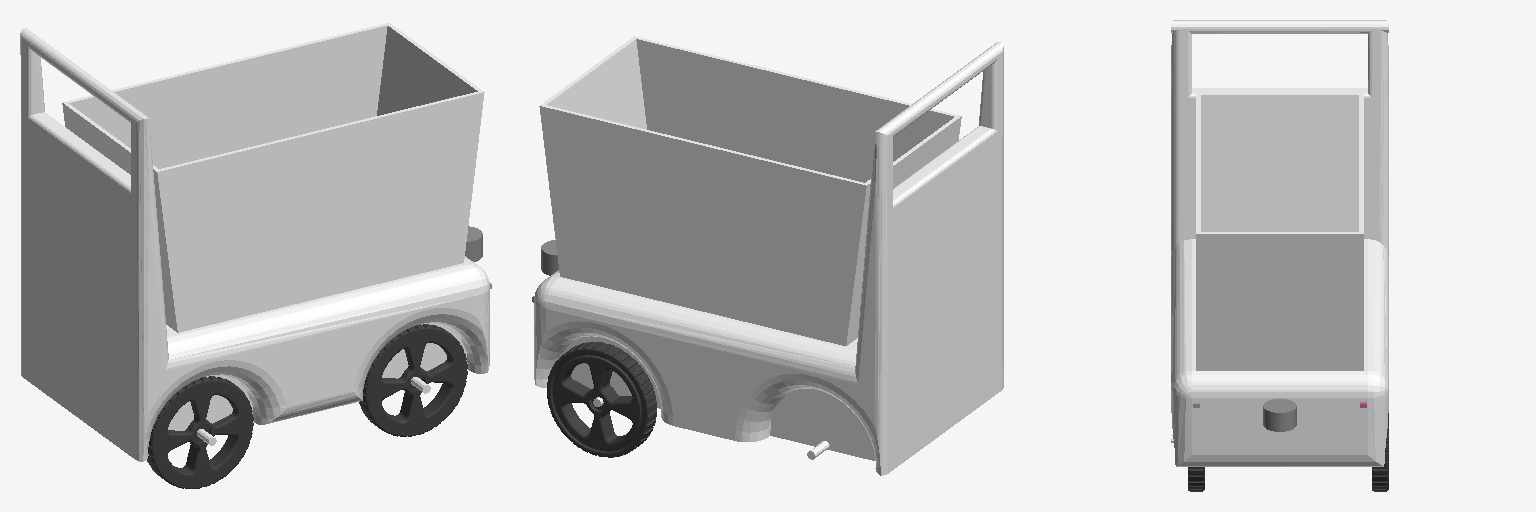
URDF robot description (smart_cart_3):
<?xml version="1.0" encoding="utf-8"?>
<!-- This URDF was automatically created by SolidWorks to URDF Exporter! Originally created by Stephen Brawner (brawner@gmail.com) 
     Commit Version: 1.6.0-4-g7f85cfe  Build Version: 1.6.7995.38578
     For more information, please see http://wiki.ros.org/sw_urdf_exporter -->
<robot
  name="smart_cart_3">
  <link
    name="base_link">
    <inertial>
      <origin
        xyz="-0.0384684706843582 0.000328594209132145 0.439267103838668"
        rpy="0 0 0" />
      <mass
        value="11.4199936702184" />
      <inertia
        ixx="0.792639906722144"
        ixy="-0.000156131230804727"
        ixz="0.0771841571661805"
        iyy="1.47343719359479"
        iyz="0.00125997528043684"
        izz="1.3575590179181" />
    </inertial>
    <visual>
      <origin
        xyz="0 0 0"
        rpy="0 0 0" />
      <geometry>
        <mesh
          filename="package://smart_cart_design_vignesh/meshes/base_link.STL" />
      </geometry>
      <material
        name="">
        <color
          rgba="1 1 1 1" />
      </material>
    </visual>
    <collision>
      <origin xyz="-0.0384684706843582 0.000328594209132145 0.439267103838668"/>
      <geometry>
        <mesh
          filename="package://smart_cart_design_vignesh/meshes/base_link.STL" />
      </geometry>
    </collision>
  </link>



  <link
    name="FL_wheel">
    <inertial>
      <origin
        xyz="-3.95772470351829E-10 0.0196415615666232 -1.71259100873594E-05"
        rpy="0 0 0" />
      <mass
        value="1.26444633927726" />
      <inertia
        ixx="0.00600890823676494"
        ixy="1.21583271812495E-11"
        ixz="4.65326326672479E-12"
        iyy="0.0117012063487314"
        iyz="7.40508981004547E-09"
        izz="0.00600892113696431" />
    </inertial>
    <visual>
      <origin
        xyz="0 0 0"
        rpy="0 0 0" />
      <geometry>
        <mesh
          filename="package://smart_cart_design_vignesh/meshes/FL_wheel.STL" />
      </geometry>
      <material
        name="">
        <color
          rgba="0.298039215686275 0.298039215686275 0.298039215686275 1" />
      </material>
    </visual>
    <collision>
      
      <geometry>
        <mesh
          filename="package://smart_cart_design_vignesh/meshes/FL_wheel.STL" />
      </geometry>
      <surface>
        <friction>
          <ode>
            <mu>10.0</mu>
            <mu2>10.0</mu2>
          </ode>
        </friction>
      </surface>
    </collision>
  </link>

  <joint
    name="FL_joint"
    type="continuous">
    <origin
      xyz="0.26 0.22 0.125"
      rpy="0 0 0" />
    <parent
      link="base_link" />
    <child
      link="FL_wheel" />
    <axis
      xyz="0 1 0" />
    <limit
      effort="100"
      velocity="100" />
  </joint>
  <link
    name="FR_wheel">
    <inertial>
      <origin
        xyz="-3.9813946584033E-10 0.0196415615666194 -1.71259091869963E-05"
        rpy="0 0 0" />
      <mass
        value="1.26444633927611" />
      <inertia
        ixx="0.006008908236756"
        ixy="1.21590867182459E-11"
        ixz="4.6340702542641E-12"
        iyy="0.0117012063487191"
        iyz="7.40508808330339E-09"
        izz="0.00600892113696104" />
    </inertial>
    <visual>
      <origin
        xyz="0 0 0"
        rpy="0 0 0" />
      <geometry>
        <mesh
          filename="package://smart_cart_design_vignesh/meshes/FR_wheel.STL" />
      </geometry>
      <material
        name="">
        <color
          rgba="0.298039215686275 0.298039215686275 0.298039215686275 1" />
      </material>
    </visual>
    <collision>
      <origin
        xyz="0 0 0"
        rpy="0 0 0" />
      <geometry>
        <mesh
          filename="package://smart_cart_design_vignesh/meshes/FR_wheel.STL" />
      </geometry>
      <surface>
        <friction>
          <ode>
            <mu>10.0</mu>
            <mu2>10.0</mu2>
          </ode>
        </friction>
      </surface>
    </collision>
  </link>

  <joint
    name="FR_joint"
    type="continuous">
    <origin
      xyz="0.26 -0.22 0.125"
      rpy="0 0 0" />
    <parent
      link="base_link" />
    <child
      link="FR_wheel" />
    <axis
      xyz="0 1 0" />
    <limit
      effort="100"
      velocity="100" />
  </joint>
  <link
    name="RL_wheel">
    <inertial>
      <origin
        xyz="-3.95772414840678E-10 0.0196415615666232 -1.71259100874566E-05"
        rpy="0 0 0" />
      <mass
        value="1.26444633927726" />
      <inertia
        ixx="0.00600890823676494"
        ixy="1.21583270642938E-11"
        ixz="4.65325906519943E-12"
        iyy="0.0117012063487314"
        iyz="7.40508981028564E-09"
        izz="0.00600892113696431" />
    </inertial>
    <visual>
      <origin
        xyz="0 0 0"
        rpy="0 0 0" />
      <geometry>
        <mesh
          filename="package://smart_cart_design_vignesh/meshes/RL_wheel.STL" />
      </geometry>
      <material
        name="">
        <color
          rgba="0.298039215686275 0.298039215686275 0.298039215686275 1" />
      </material>
    </visual>
    <collision>
      <origin
        xyz="0 0 0"
        rpy="0 0 0" />
      <geometry>
        <mesh
          filename="package://smart_cart_design_vignesh/meshes/RL_wheel.STL" />
      </geometry>
      <surface>
        <friction>
          <ode>
            <mu>10.0</mu>
            <mu2>10.0</mu2>
          </ode>
        </friction>
      </surface>
    </collision>
  </link>

  <joint
    name="RL_joint"
    type="continuous">
    <origin
      xyz="-0.26 0.22 0.125"
      rpy="0 0 0" />
    <parent
      link="base_link" />
    <child
      link="RL_wheel" />
    <axis
      xyz="0 1 0" />
    <limit
      effort="100"
      velocity="100" />
  </joint>
  <link
    name="RR_wheel">
    <inertial>
      <origin
        xyz="-3.97575306010367E-10 0.0196415615666198 -1.71259093140197E-05"
        rpy="0 0 0" />
      <mass
        value="1.26444633927684" />
      <inertia
        ixx="0.00600890823675785"
        ixy="1.21588621164181E-11"
        ixz="4.63852871043779E-12"
        iyy="0.0117012063487227"
        iyz="7.40508847843525E-09"
        izz="0.00600892113696302" />
    </inertial>
    <visual>
      <origin
        xyz="0 0 0"
        rpy="0 0 0" />
      <geometry>
        <mesh
          filename="package://smart_cart_design_vignesh/meshes/RR_wheel.STL" />
      </geometry>
      <material
        name="">
        <color
          rgba="0.298039215686275 0.298039215686275 0.298039215686275 1" />
      </material>
    </visual>
    <collision>
      <origin
        xyz="0 0 0"
        rpy="0 0 0" />
      <geometry>
        <mesh
          filename="package://smart_cart_design_vignesh/meshes/RR_wheel.STL" />
      </geometry>
      <surface>
        <friction>
          <ode>
            <mu>10.0</mu>
            <mu2>10.0</mu2>
          </ode>
        </friction>
      </surface>
    </collision>
  </link>
  <joint
    name="RR_joint"
    type="continuous">
    <origin
      xyz="-0.26 -0.22 0.125"
      rpy="0 0 0" />
    <parent
      link="base_link" />
    <child
      link="RR_wheel" />
    <axis
      xyz="0 1 0" />
    <limit
      effort="100"
      velocity="100" />
  </joint>

  <!-- DIFF DRIVE -->
  <gazebo>
    <plugin filename="gz-sim-diff-drive-system"
            name="gz::sim::systems::DiffDrive">

      <left_joint>FL_joint</left_joint>
      <left_joint>RL_joint</left_joint>

      <right_joint>FR_joint</right_joint>
      <right_joint>RR_joint</right_joint>

      <wheel_separation>0.44</wheel_separation>
      <wheel_radius>0.125</wheel_radius>

      <topic>/cmd_vel</topic>
      <odom_topic>odom</odom_topic>
      <tf_topic>/tf</tf_topic>
      <frame_id>odom</frame_id>
      <child_frame_id>base_link</child_frame_id>
      <odom_publish_frequency>20</odom_publish_frequency>
      <max_linear_velocity>1.2</max_linear_velocity>
      <max_linear_acceleration>1.0</max_linear_acceleration>
      <min_linear_acceleration>-1.0</min_linear_acceleration>
      <max_angular_acceleration>2.0</max_angular_acceleration>

    </plugin>
  </gazebo>

  <!-- Joint state publisher -->
  <gazebo>
    <plugin filename="gz-sim-joint-state-publisher-system"
            name="gz::sim::systems::JointStatePublisher">
      <topic>joint_states</topic>
    </plugin>
  </gazebo>
  
  <!-- Lidar -->
  <link name="lidar_link">
  <visual>
    <geometry>
      <cylinder radius="0.04" length="0.05"/>
    </geometry>
    <material name="grey">
      <color rgba="0.6 0.6 0.6 1"/>
    </material>
  </visual>

  <collision>
    <geometry>
      <cylinder radius="0.04" length="0.05"/>
    </geometry>
  </collision>

  <inertial>
    <mass value="0.17"/>
    <inertia ixx="0.0001" iyy="0.0001" izz="0.0001"
             ixy="0" ixz="0" iyz="0"/>
  </inertial>
</link>

<joint name="lidar_joint" type="fixed">
  <parent link="base_link"/>
  <child link="lidar_link"/>
  <origin xyz="0.5 0 0.3"/>
</joint>

<gazebo reference="lidar_link">
  <sensor name="lidar" type="gpu_lidar">
    <gz_frame_id>lidar_link</gz_frame_id>
    <always_on>true</always_on>
    <update_rate>10</update_rate>
    <visualize>true</visualize>

    <topic>scan</topic>   <!-- NOTE: no "/" -->

    <lidar>
      <scan>
        <horizontal>
          <samples>360</samples>
          <min_angle>-3.14</min_angle>
          <max_angle>3.14</max_angle>
        </horizontal>
      </scan>
      <range>
        <min>0.12</min>
        <max>12.0</max>
      </range>
    </lidar>
  </sensor>
</gazebo>

<!-- ultrasonic_left -->
<link name="ultrasonic_left">
  <visual>
    <geometry><box size="0.015 0.015 0.012"/></geometry>
  </visual>
</link>

<joint name="ultra_left_joint" type="fixed">
  <parent link="base_link"/>
  <child link="ultrasonic_left"/>
  <origin xyz="0.44 0.2 0.3"/>
</joint>

<gazebo reference="ultrasonic_left">
  <sensor name="ultra_left" type="gpu_lidar">
    <topic>/ultrasonic/left</topic>
    <update_rate>10</update_rate>
    <lidar>
      <scan>
        <horizontal>
          <samples>5</samples>
          <min_angle>-0.13</min_angle>
          <max_angle>0.13</max_angle>
        </horizontal>
      </scan>
      <range>
        <min>0.02</min>
        <max>4.0</max>
      </range>
    </lidar>
  </sensor>
</gazebo>

<!-- ultrasonic_right -->
<link name="ultrasonic_right">
  <visual>
    <geometry><box size="0.015 0.015 0.012"/></geometry>
  </visual>
</link>

<joint name="ultra_right_joint" type="fixed">
  <parent link="base_link"/>
  <child link="ultrasonic_right"/>
  <origin xyz="0.44 -0.2 0.3"/>
</joint>

<gazebo reference="ultrasonic_right">
  <sensor name="ultra_right" type="gpu_lidar">
    <topic>/ultrasonic/right</topic>
    <update_rate>10</update_rate>
    <lidar>
      <scan>
        <horizontal>
          <samples>5</samples>
          <min_angle>-0.13</min_angle>
          <max_angle>0.13</max_angle>
        </horizontal>
      </scan>
      <range>
        <min>0.02</min>
        <max>4.0</max>
      </range>
    </lidar>
  </sensor>
</gazebo>

<!-- uwb_fl-->
<link name="uwb_fl">
  <visual>
    <geometry><box size="0.04 0.04 0.03"/></geometry>
  </visual>
</link>

<joint name="uwb_fl_joint" type="fixed">
  <parent link="base_link"/>
  <child link="uwb_fl"/>
  <origin xyz="0.32 0.23 0.3"/>
</joint>

<!-- uwb_fr-->
<link name="uwb_fr">
  <visual>
    <geometry><box size="0.04 0.04 0.03"/></geometry>
  </visual>
</link>

<joint name="uwb_fr_joint" type="fixed">
  <parent link="base_link"/>
  <child link="uwb_fr"/>
  <origin xyz="0.32 -0.23 0.3"/>
</joint>

<!-- uwb_rl-->
<link name="uwb_rl">
  <visual>
    <geometry><box size="0.04 0.04 0.03"/></geometry>
  </visual>
</link>

<joint name="uwb_rl_joint" type="fixed">
  <parent link="base_link"/>
  <child link="uwb_rl"/>
  <origin xyz="-0.32 0.23 0.3"/>
</joint>

<!-- uwb_rr-->
<link name="uwb_rr">
  <visual>
    <geometry><box size="0.04 0.04 0.03"/></geometry>
  </visual>
</link>

<joint name="uwb_rr_joint" type="fixed">
  <parent link="base_link"/>
  <child link="uwb_rr"/>
  <origin xyz="-0.32 -0.23 0.3"/>
</joint>

</robot>

--- What the picture shows (computed from the rendered views, not written in the file) ---
The picture shows the robot from 3 angles, left to right: view 1: azimuth 30°, elevation 25°; view 2: azimuth 150°, elevation 25°; view 3: azimuth 270°, elevation 25°; orthographic projection.
Robot: smart_cart_3 — 12 links, 11 joints (4 continuous, 7 fixed); root link base_link; default pose: every joint at zero.
Visible links, largest first — view 1: base_link, FR_wheel, RR_wheel; view 2: base_link, FL_wheel; view 3: base_link, lidar_link, FL_wheel.
Link boxes in pixels (x1,y1,x2,y2): base_link: [20, 23, 489, 461]; FR_wheel: [359, 324, 467, 436]; RR_wheel: [147, 376, 253, 488]; base_link: [534, 36, 1003, 475]; FL_wheel: [547, 342, 656, 457]; base_link: [1171, 20, 1388, 466]; lidar_link: [1263, 399, 1296, 431]; FL_wheel: [1372, 413, 1388, 491].
Size in the robot's own frame: 0.975 by 0.52 by 0.9123 metres.
Meshes: 5 distinct files referenced, 4 mesh visuals loaded (4 binary STL); not drawn: 1 (reference not matched to a file when rendering).
